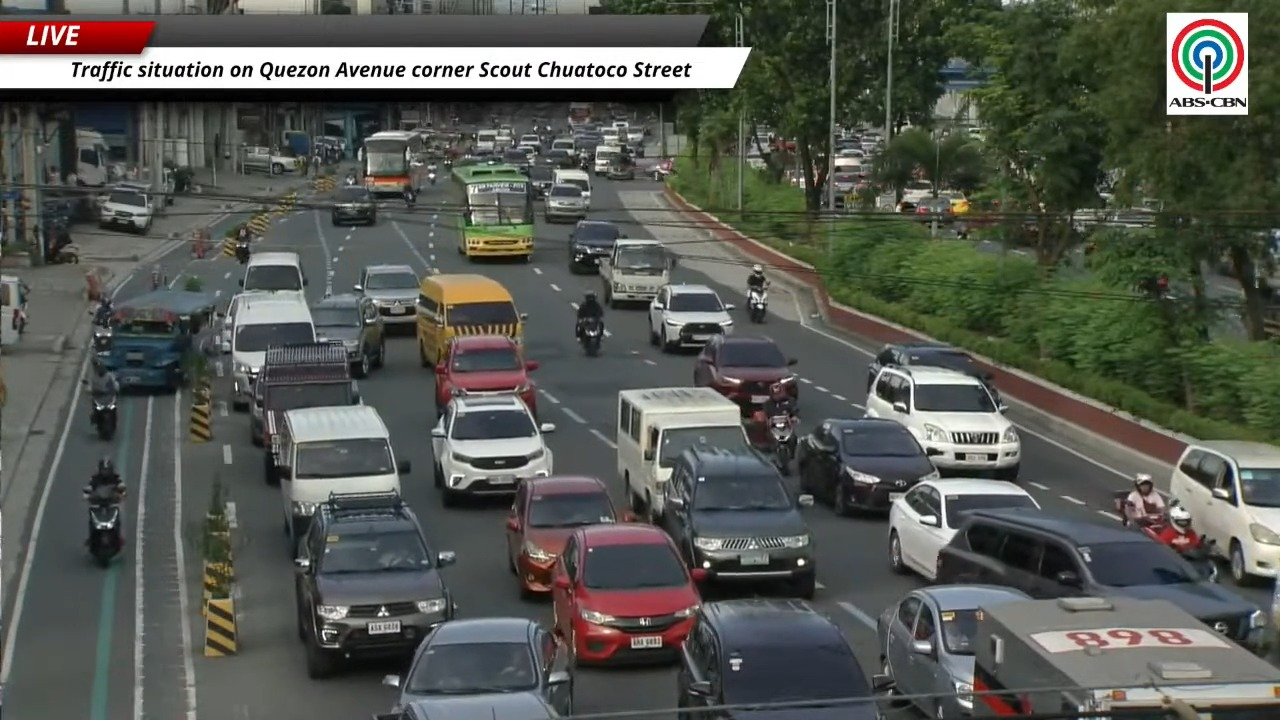bus: (452, 165, 534, 259), (359, 131, 427, 195), (569, 102, 592, 127)
car: (936, 508, 1266, 650), (295, 493, 455, 678), (676, 598, 879, 719), (660, 447, 815, 598), (551, 523, 704, 663), (877, 585, 1030, 719), (383, 617, 573, 719), (865, 366, 1020, 480), (1170, 441, 1279, 582), (506, 476, 633, 597), (888, 478, 1039, 579), (796, 418, 938, 515), (432, 394, 555, 505), (435, 335, 538, 417), (866, 340, 1000, 402), (693, 335, 798, 412), (310, 293, 384, 377), (648, 284, 733, 351), (372, 693, 560, 719), (354, 264, 419, 325), (569, 220, 625, 273), (99, 185, 156, 234), (218, 292, 252, 353), (331, 186, 376, 225), (544, 183, 587, 222), (914, 197, 953, 224), (528, 163, 553, 198), (605, 155, 635, 180), (542, 148, 577, 168), (500, 147, 529, 166), (517, 134, 541, 152)
motorcycle: (1113, 491, 1217, 581), (83, 485, 125, 566), (1113, 491, 1166, 535), (1174, 539, 1218, 581), (768, 414, 796, 475), (91, 299, 113, 352), (91, 397, 117, 440), (580, 318, 603, 356), (747, 285, 767, 323), (234, 238, 251, 264), (403, 189, 416, 210), (344, 174, 356, 186), (428, 171, 436, 185)
truck: (972, 597, 1279, 719), (615, 387, 755, 522), (250, 341, 360, 483), (598, 238, 673, 307), (75, 127, 109, 187)
